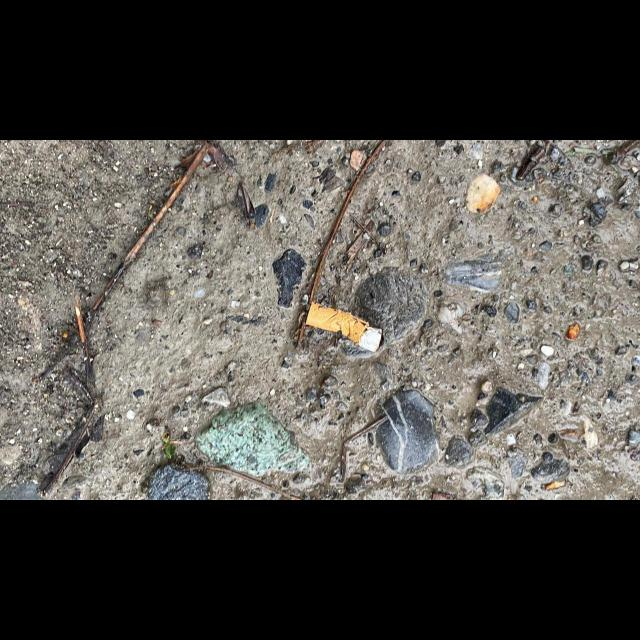cigarette: (305, 300, 382, 353)
